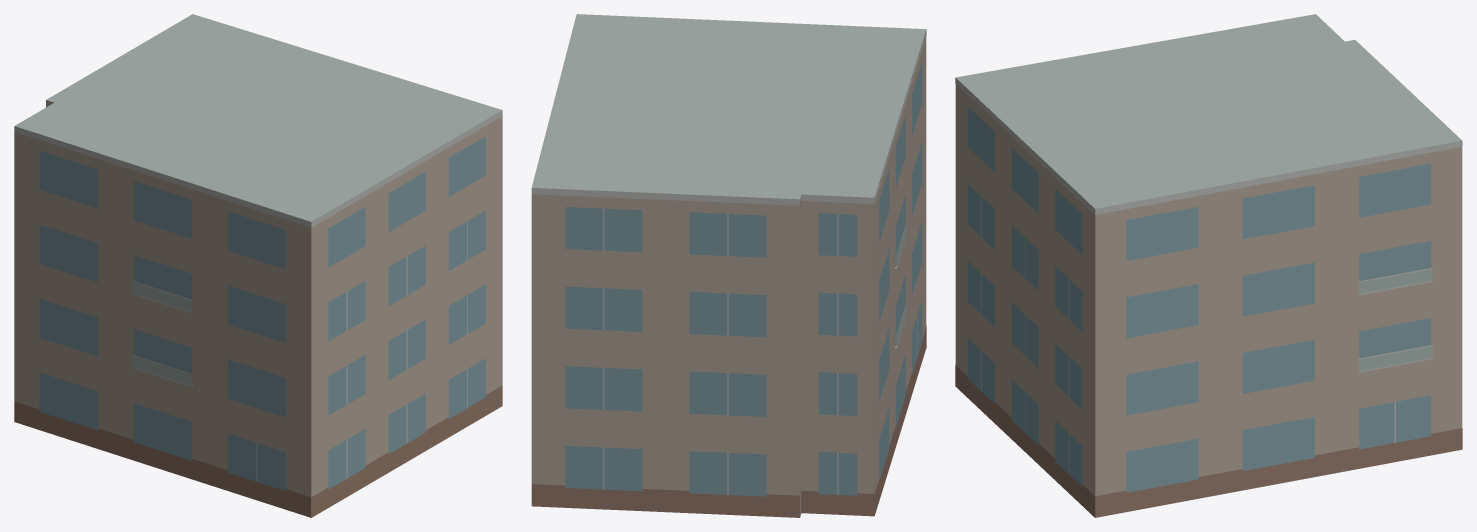
The model's file is survey-upis-32593817.glb.
The picture shows the model from 3 angles, left to right: view 1: azimuth 30°, elevation 25°; view 2: azimuth 150°, elevation 25°; view 3: azimuth 270°, elevation 25°; orthographic projection. The views are drawn at different scales.
Parts seen in each view (by area): view 1: survey-upis-32593817.tmp; view 2: survey-upis-32593817.tmp; view 3: survey-upis-32593817.tmp.
Part boxes in pixels (<box>): survey-upis-32593817.tmp: <box>14,14,502,517</box>; survey-upis-32593817.tmp: <box>531,14,926,517</box>; survey-upis-32593817.tmp: <box>955,14,1462,517</box>.
Size of the model in its own units: 16.51 by 12.2 by 18.15.
